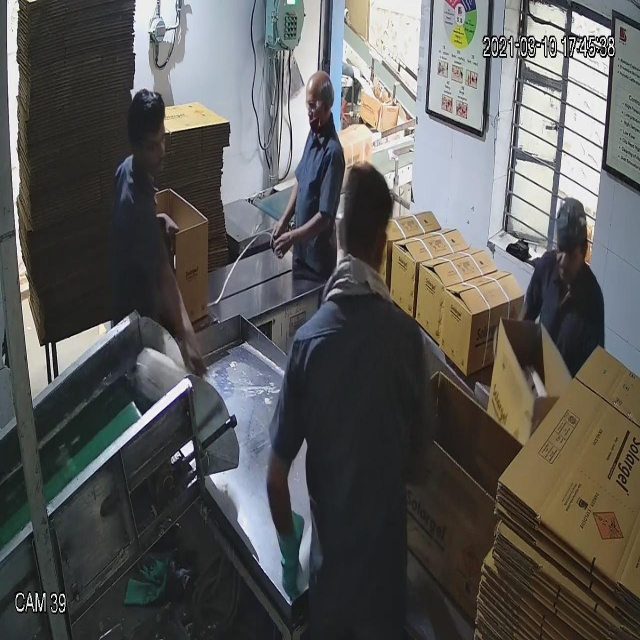Guantes: (264, 468, 312, 610)
Sin_guantes: (151, 238, 218, 389), (265, 201, 342, 281)
